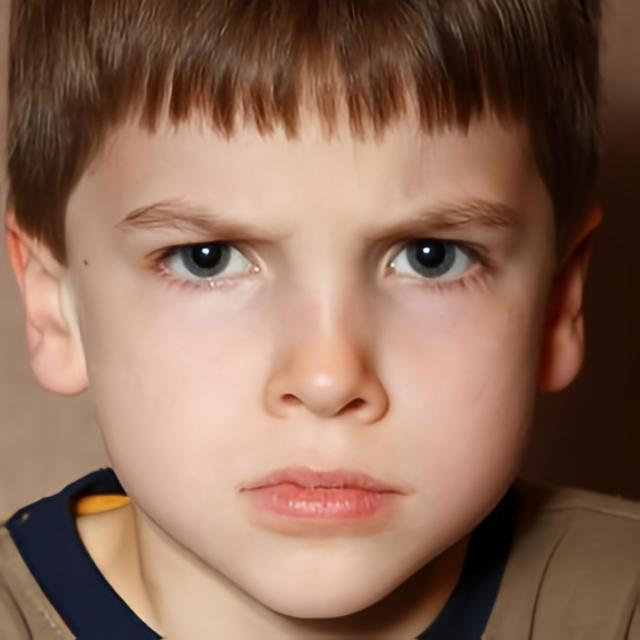anger: (93, 60, 533, 620)
